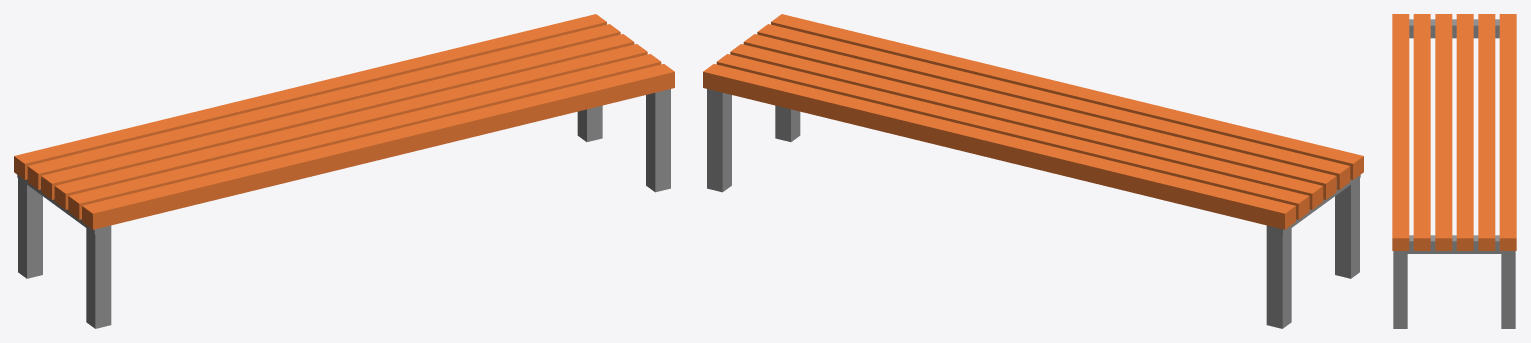
The model's file is Bench.fbx.
3 renders of one model, left to right at view 1: azimuth 30°, elevation 25°; view 2: azimuth 150°, elevation 25°; view 3: azimuth 270°, elevation 25°, orthographic. The views are drawn at different scales.
Parts seen in each view (by area): view 1: Brench; view 2: Brench; view 3: Brench.
Boxes of the visible parts, x1,y1,x2,y2 form: Brench: (14, 14, 674, 328); Brench: (703, 14, 1363, 328); Brench: (1392, 14, 1516, 328).
Bounding box in the file's own units: 291 × 55.64 × 68.29.
